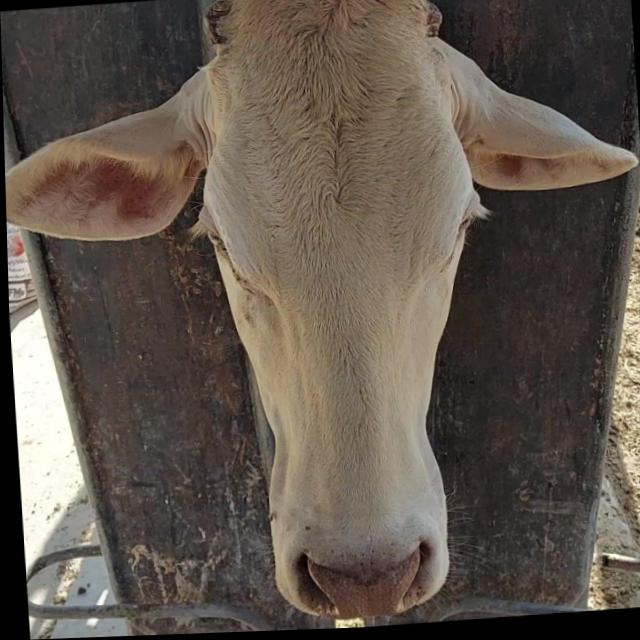cowFace: (189, 0, 501, 623)
